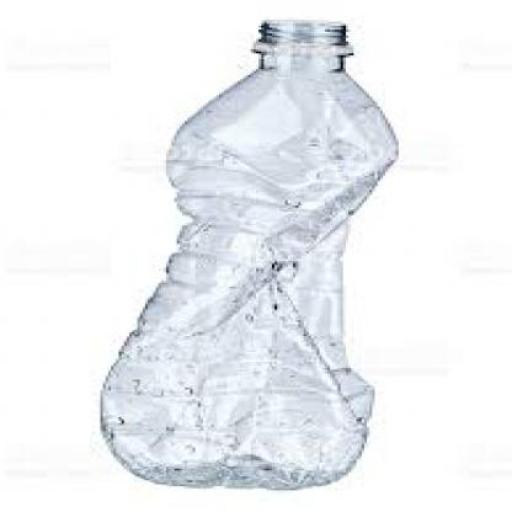plastic: (103, 16, 404, 489)
